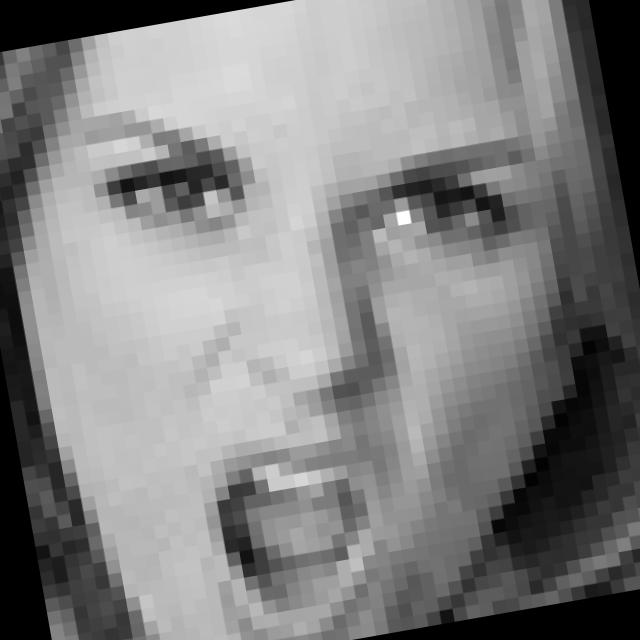angry: (75, 41, 608, 640)
